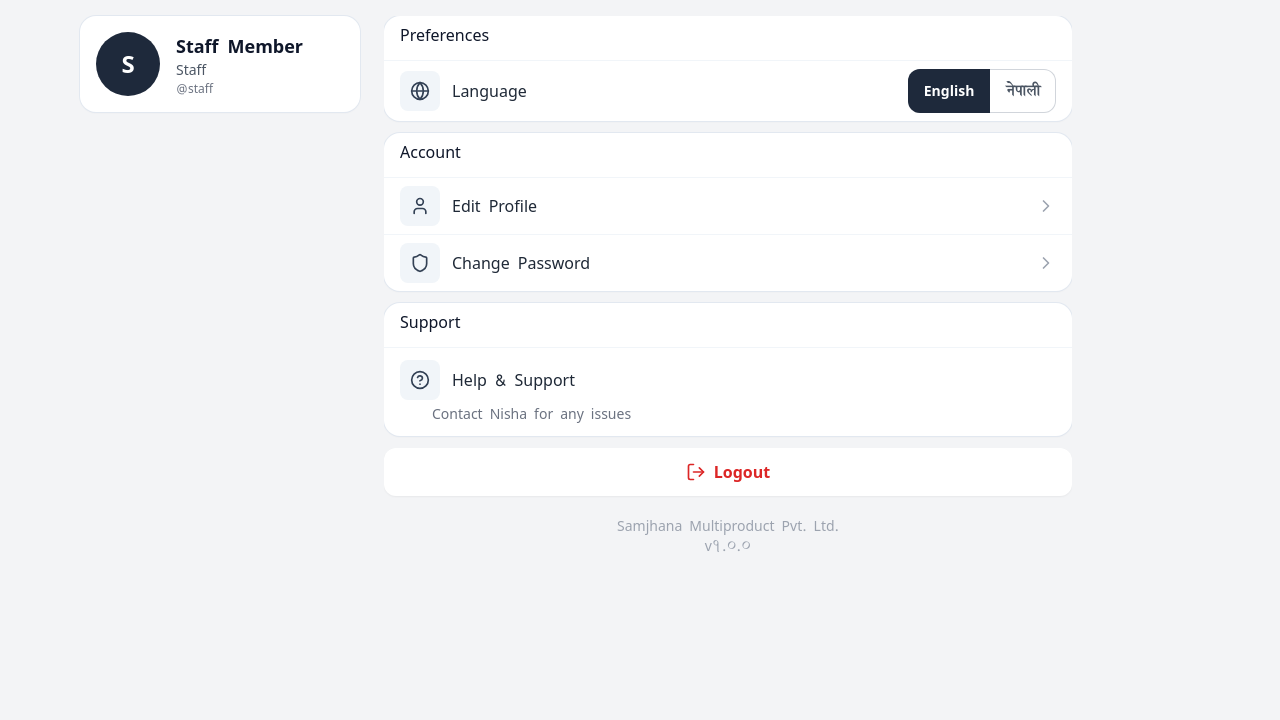
Test: SettingsPage change password › no longer accepts the old 3-character minimum
Click the button "Change Password": x=420, y=263 [384, 234, 1072, 291]
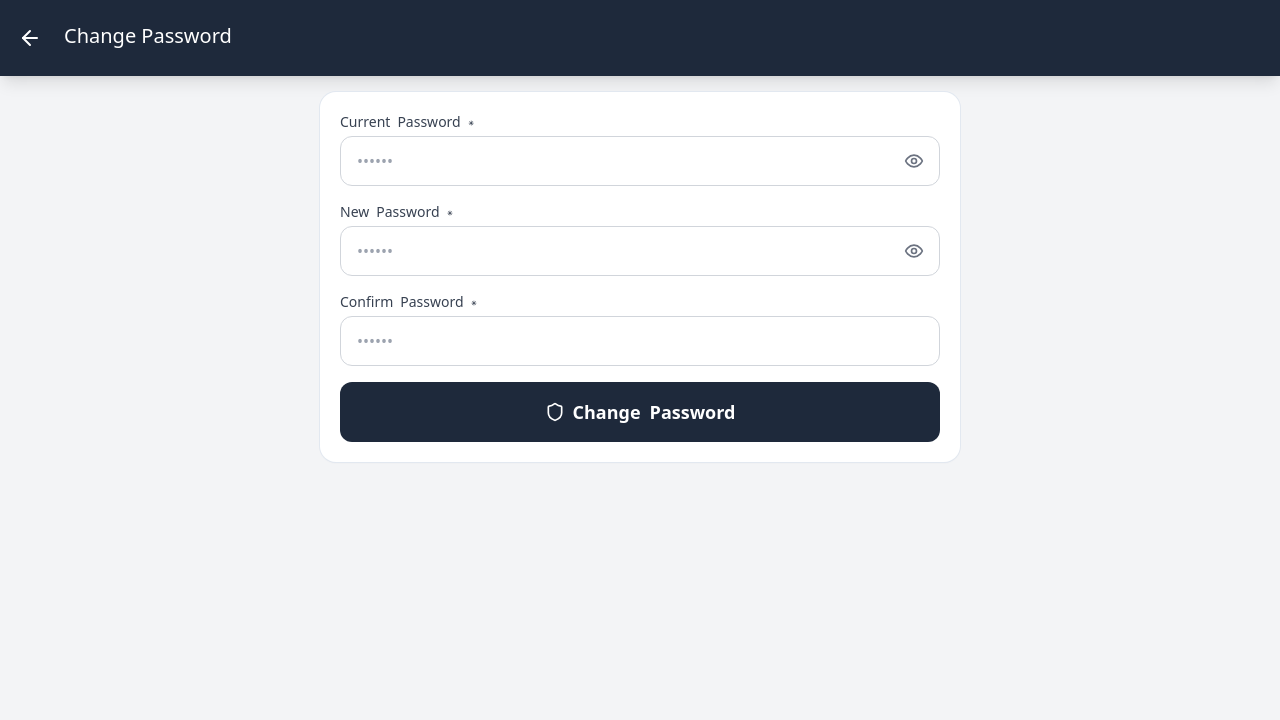
In the password field with placeholder "••••••" below "Current Password": x=640, y=161 [340, 136, 940, 186], type "old-pass-123"
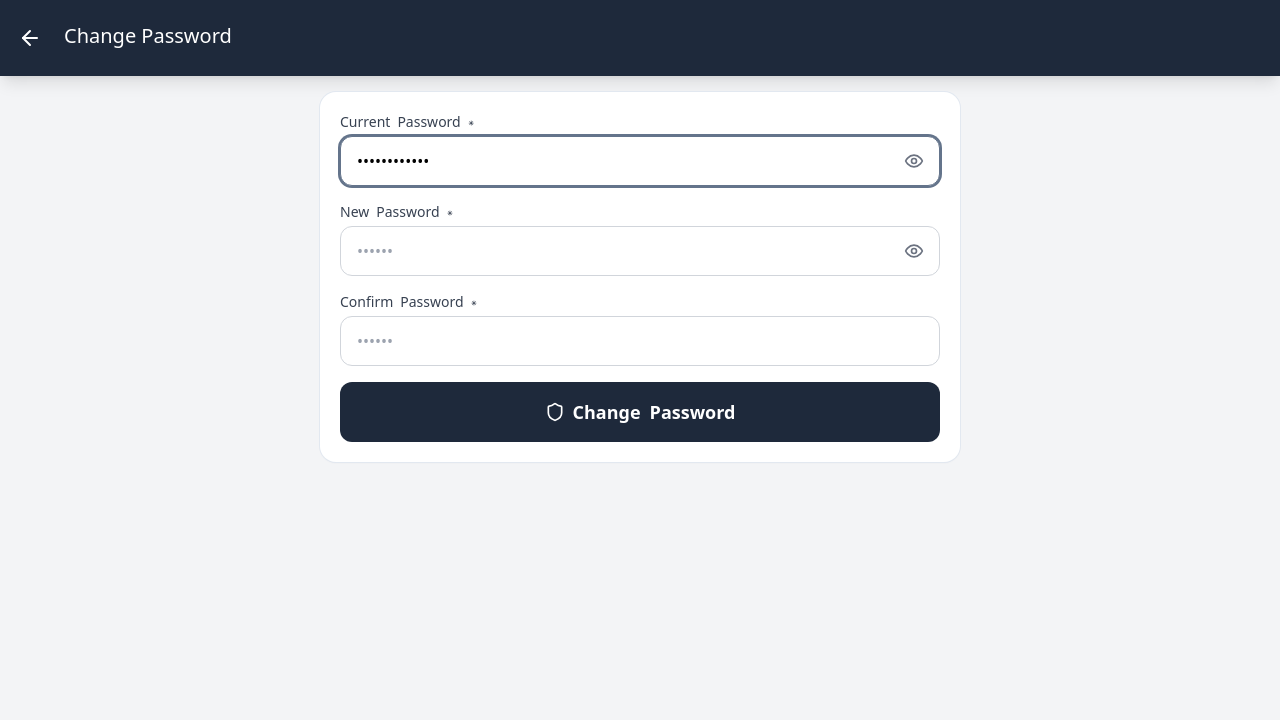
In the password field with placeholder "••••••" below "New Password": x=640, y=251 [340, 226, 940, 276], type "abc"
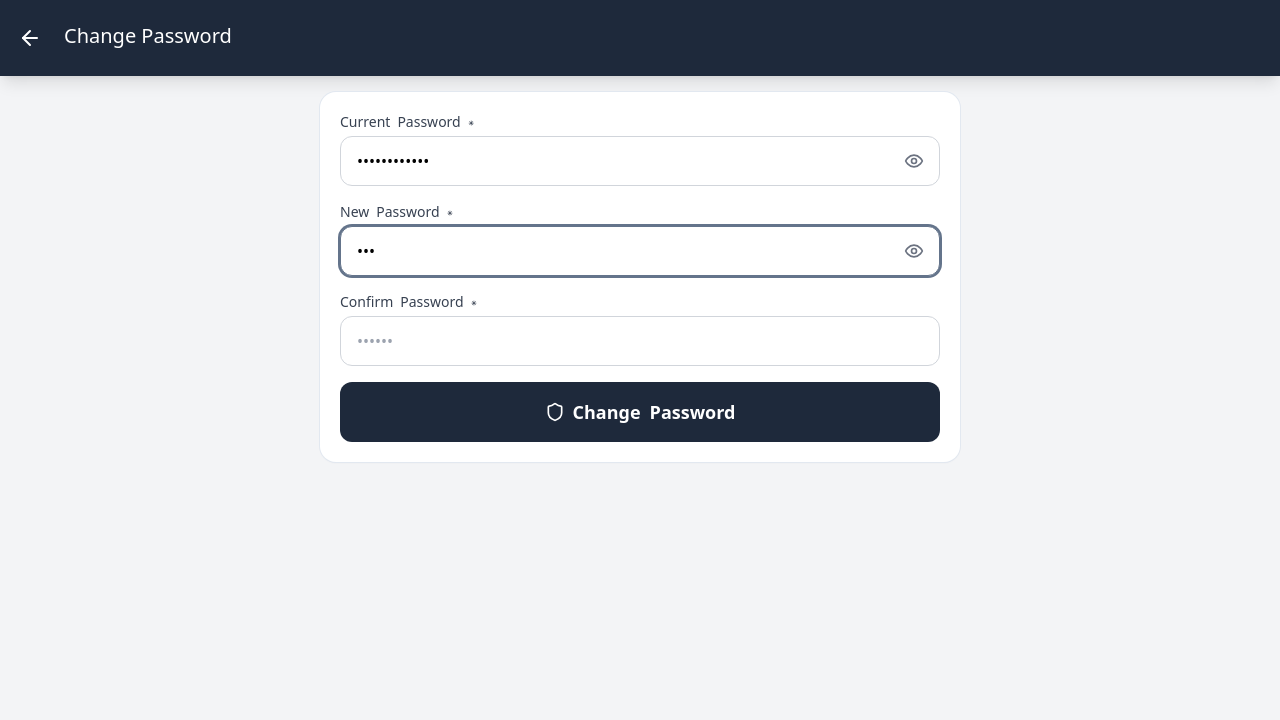
In the password field with placeholder "••••••": x=640, y=341 [340, 316, 940, 366], type "abc"
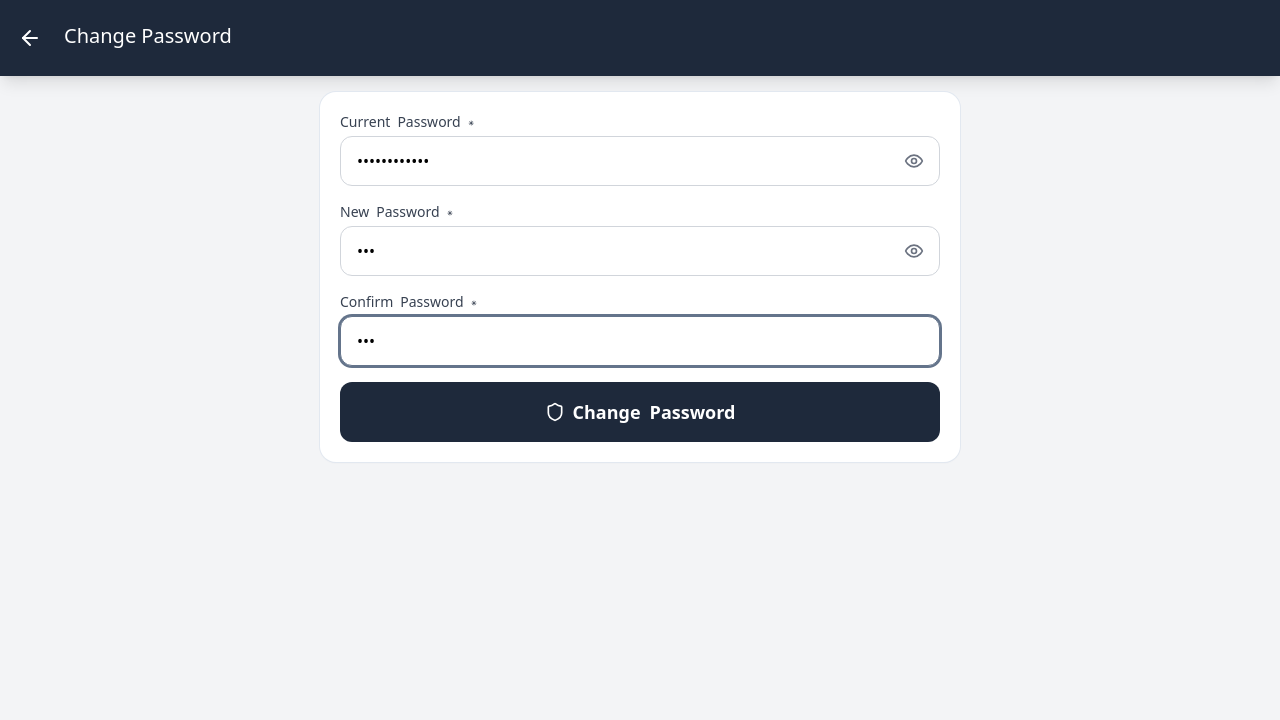
Click the button "Change Password": x=640, y=412 [340, 382, 940, 442]
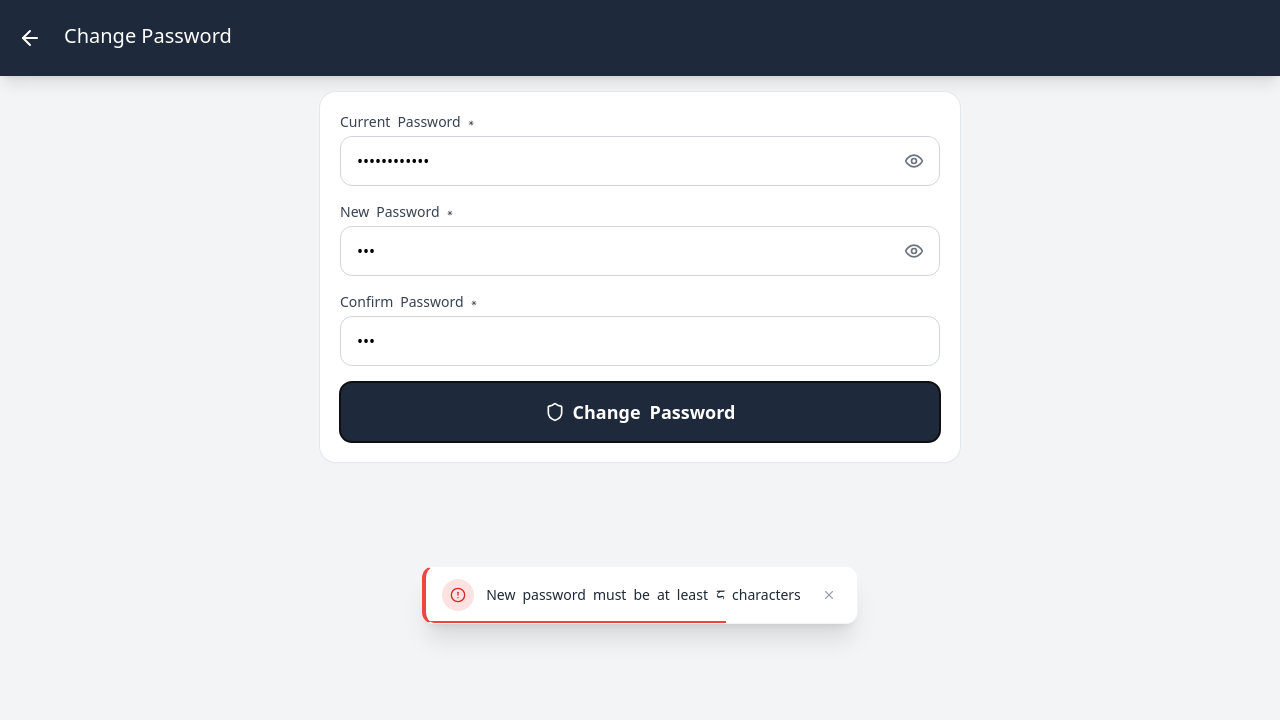
Expected: the text "New password must be at least 8 characters" is shown, [486, 585, 805, 605]
